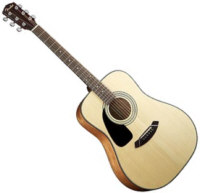guitar: (1, 2, 200, 192)
